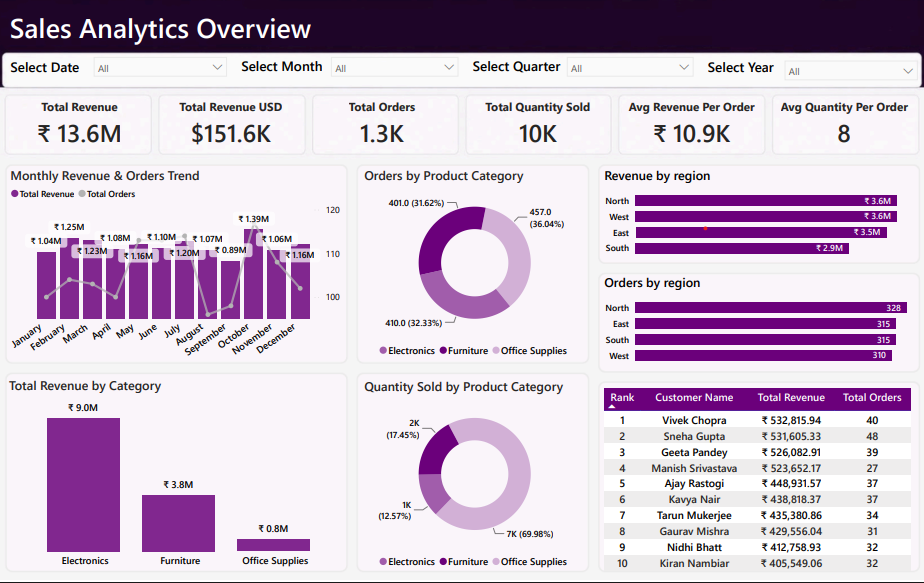

This screenshot's page, from the dashboard's own definition file:
{"tool":"powerbi","page":{"name":"Sales Analytics Overview","canvas":[1280,800],"ordinal":0},"visuals":[{"type":"textbox","box":[10.4,5.9,490.7,62.5],"z":0},{"type":"textbox","box":[329.6,72.9,139.8,43.1],"z":0,"group":"g3"},{"type":"textbox","box":[650.3,72.9,138.3,43.1],"z":0,"group":"g2"},{"type":"textbox","box":[10.7,73.3,139.4,42.9],"z":0,"group":"g4"},{"type":"textbox","box":[975.2,72.9,135.3,43.1],"z":2,"group":"g1"},{"type":"slicer","fields":{"Values":["dim_date.year"]},"box":[1076.3,72.9,203.7,53.5],"z":7,"group":"g1"},{"type":"slicer","fields":{"Values":["dim_date.full_date"]},"box":[120.4,68.4,203.7,53.5],"z":1000,"group":"g4"},{"type":"slicer","fields":{"Values":["dim_date.month_name"]},"box":[448.6,68.4,196.3,53.5],"z":1000,"group":"g3"},{"type":"slicer","fields":{"Values":["dim_date.quarter"]},"box":[775.2,68.4,194.8,53.5],"z":1000,"group":"g2"},{"type":"group","id":"g1","title":"Group 1","box":[975.2,72.9,304.8,53.5],"z":1000},{"type":"group","id":"g2","title":"Group 2","box":[650.3,68.4,319.7,53.5],"z":2000},{"type":"group","id":"g3","title":"Group 3","box":[329.6,68.4,315.2,53.5],"z":3000},{"type":"group","id":"g4","title":"Group 4","box":[10.7,68.4,313.4,53.5],"z":4000},{"type":"cardVisual","fields":{"Data":["fact_sales.Total Revenue"]},"box":[10.7,122.1,201.4,94.6],"z":5000},{"type":"cardVisual","fields":{"Data":["fact_sales.Total Orders"]},"box":[428.7,122.1,201.4,94.6],"z":6000},{"type":"cardVisual","fields":{"Data":["fact_sales.Total Quantity Sold"]},"box":[645.4,121.9,200.7,95.2],"z":7000},{"type":"cardVisual","fields":{"Data":["fact_sales.Avg Revenue Per Order"]},"box":[846.7,122.1,221.2,94.6],"z":8000},{"type":"cardVisual","fields":{"Data":["fact_sales.Avg Quantity Per Order"]},"box":[1067.9,122.1,201.4,94.6],"z":9000},{"type":"cardVisual","fields":{"Data":["fact_sales.Total Revenue USD"]},"box":[219.7,122.1,201.4,94.6],"z":10000},{"type":"clusteredBarChart","title":"Revenue by region","fields":{"Category":["dim_region.region"],"Y":["fact_sales.Total Revenue"]},"box":[836,227.3,444,132.7],"z":11000},{"type":"clusteredBarChart","title":"Orders by region","fields":{"Category":["dim_region.region"],"Y":["fact_sales.Total Orders"]},"box":[836,375.3,444,132.7],"z":12000},{"type":"donutChart","title":"Orders by Product Category","fields":{"Series":["dim_product.product_category"],"Y":["fact_sales.Total Orders"]},"box":[501.9,227.3,308.2,270],"z":13000},{"type":"donutChart","title":"Quantity Sold by Product Category","fields":{"Series":["dim_product.product_category"],"Y":["fact_sales.Total Quantity Sold"]},"box":[501.9,518.7,308.2,270],"z":14000},{"type":"tableEx","fields":{"Values":["fact_sales.Customer Rank","dim_customer.customer_name","fact_sales.Total Revenue","fact_sales.Total Orders"]},"box":[831.2,530.9,437.2,269.1],"z":15000},{"type":"clusteredColumnChart","fields":{"Category":["dim_product.product_category"],"Y":["fact_sales.Total Revenue"]},"box":[10.4,519,477.3,269.1],"z":16000},{"type":"lineStackedColumnComboChart","title":"Monthly Revenue & Orders Trend","fields":{"Category":["dim_date.month_name"],"Y":["fact_sales.Total Revenue"],"Y2":["fact_sales.Total Orders"]},"box":[10.4,229,475.8,278.1],"z":17000}]}

Visuals, with their boxes in screenshot pixels (x1, y1, x2, y2), scaled from the page's 1280x800 canvas onto the 924x583 screenshot:
textbox: box=[8, 4, 362, 50]
textbox: box=[238, 53, 339, 85]
textbox: box=[469, 53, 569, 85]
textbox: box=[8, 53, 108, 85]
textbox: box=[704, 53, 802, 85]
slicer - dim_date.year: box=[777, 53, 923, 92]
slicer - dim_date.full_date: box=[87, 50, 234, 89]
slicer - dim_date.month_name: box=[324, 50, 466, 89]
slicer - dim_date.quarter: box=[560, 50, 700, 89]
"Group 1" group: box=[704, 53, 923, 92]
"Group 2" group: box=[469, 50, 700, 89]
"Group 3" group: box=[238, 50, 465, 89]
"Group 4" group: box=[8, 50, 234, 89]
cardVisual - fact_sales.Total Revenue: box=[8, 89, 153, 158]
cardVisual - fact_sales.Total Orders: box=[309, 89, 455, 158]
cardVisual - fact_sales.Total Quantity Sold: box=[466, 89, 611, 158]
cardVisual - fact_sales.Avg Revenue Per Order: box=[611, 89, 771, 158]
cardVisual - fact_sales.Avg Quantity Per Order: box=[771, 89, 916, 158]
cardVisual - fact_sales.Total Revenue USD: box=[159, 89, 304, 158]
"Revenue by region" clusteredBarChart: box=[603, 166, 923, 262]
"Orders by region" clusteredBarChart: box=[603, 273, 923, 370]
"Orders by Product Category" donutChart: box=[362, 166, 585, 362]
"Quantity Sold by Product Category" donutChart: box=[362, 378, 585, 575]
tableEx - fact_sales.Customer Rank x dim_customer.customer_name: box=[600, 387, 916, 582]
clusteredColumnChart - dim_product.product_category x fact_sales.Total Revenue: box=[8, 378, 352, 574]
"Monthly Revenue & Orders Trend" lineStackedColumnComboChart: box=[8, 167, 351, 370]
